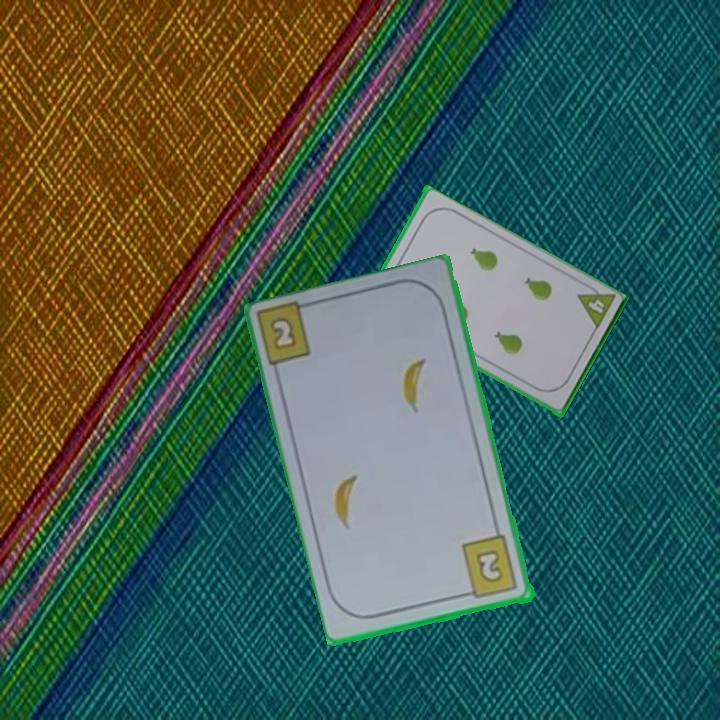2b: (459, 532, 521, 602), (266, 313, 300, 354)
4p: (584, 295, 607, 316)
